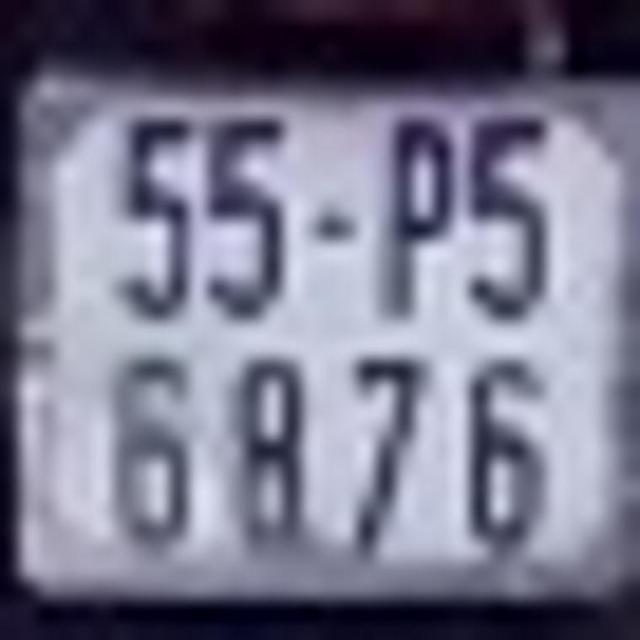5: (203, 112, 293, 328), (469, 102, 550, 324), (116, 108, 195, 303)
6: (459, 348, 557, 554), (110, 351, 196, 554)
7: (346, 356, 424, 552)
8: (230, 356, 304, 558)
P: (382, 110, 454, 324)
